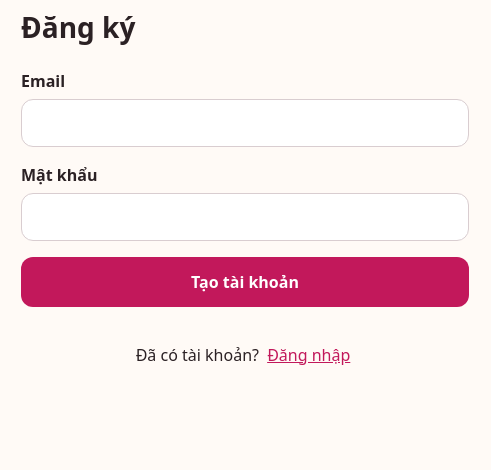
SignUpPage shows rate_limited message for the sign-up limit
The image size is (491, 470).
Type "an@example.com" into the field labelled "Email" at (245, 123), box [21, 99, 469, 147]
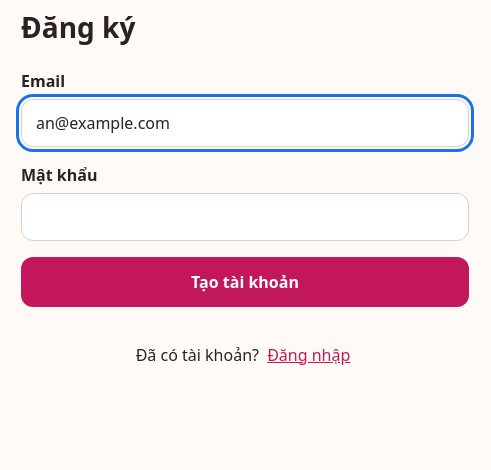
Type "mat-khau-dai" into the password field labelled "Mật khẩu" at (245, 217), box [21, 193, 469, 241]
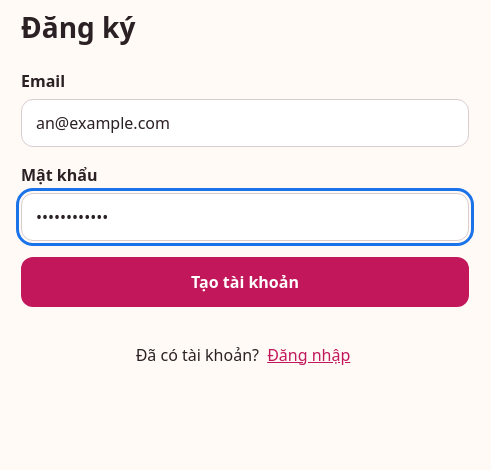
Click the button "Tạo tài khoản" at (245, 282), box [21, 257, 469, 307]
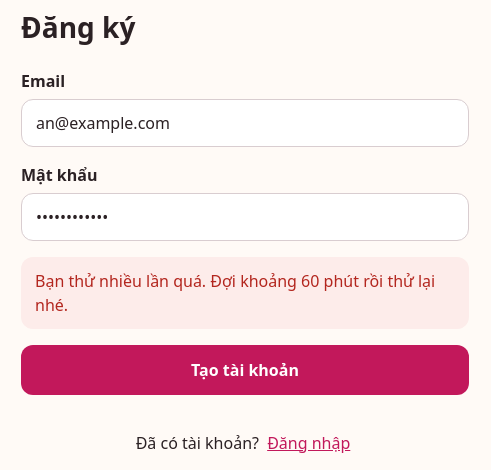
Result: the message reads "Bạn thử nhiều lần quá. Đợi khoảng 60 phút rồi thử lại nhé." at [35, 270, 435, 316]
